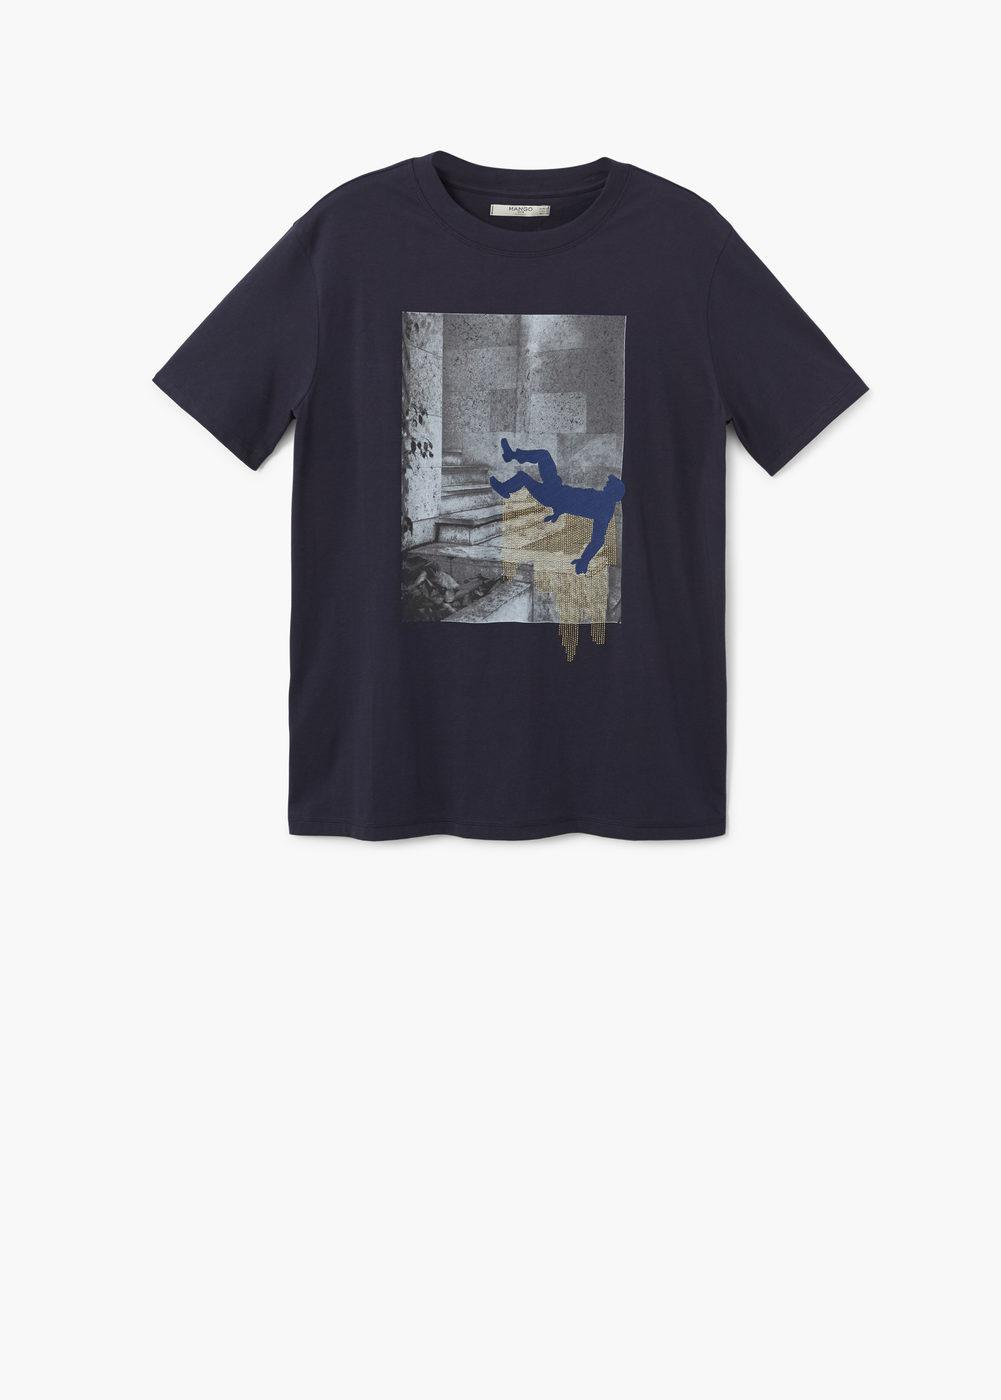teeshirt: (153, 133, 948, 923)
